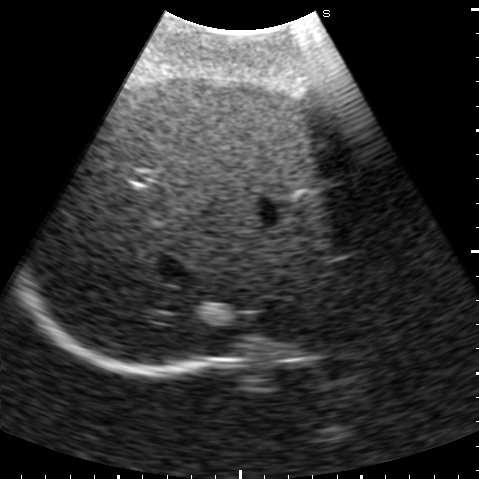S5: (112, 77, 345, 194)
S7: (35, 153, 155, 301)
S8: (95, 176, 379, 363)
Tumor: (196, 302, 235, 327)
